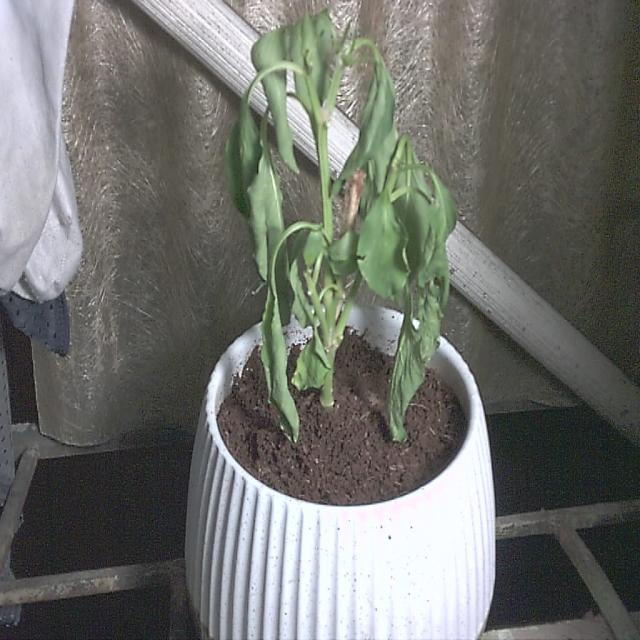Leaf: (246, 158, 288, 335), (262, 270, 301, 447), (356, 200, 410, 310)
